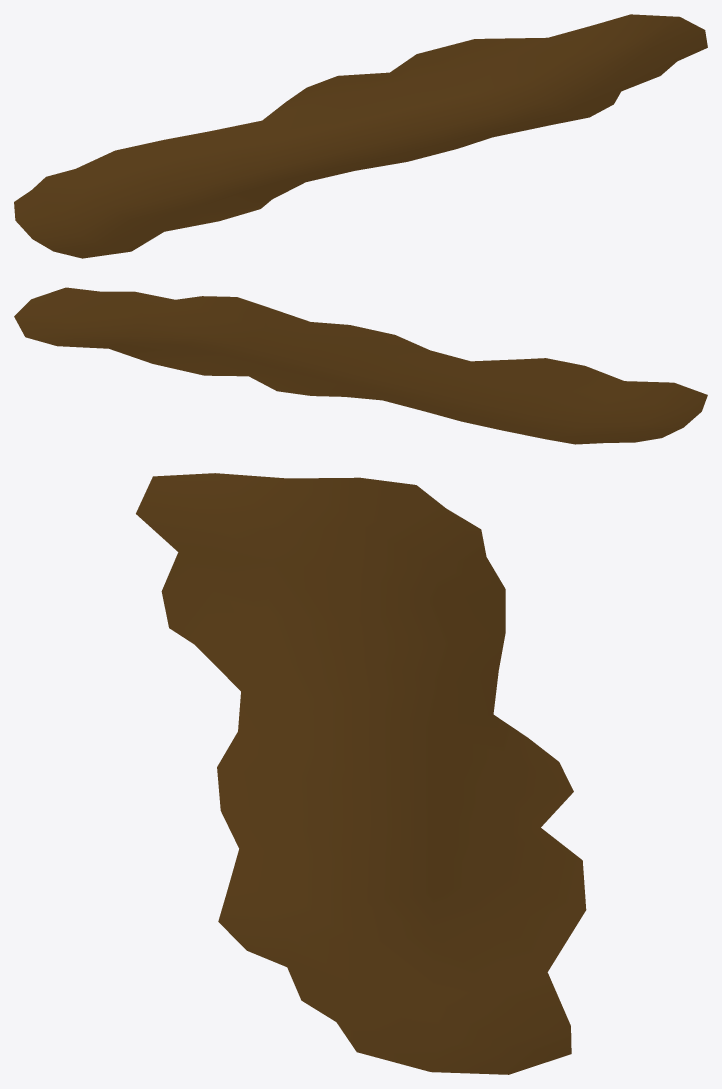
Rendered from StraightMud.FBX.
3 views of the same model, one above another, from view 1: azimuth 30°, elevation 25°; view 2: azimuth 150°, elevation 25°; view 3: azimuth 270°, elevation 25° (orthographic). The views are drawn at different scales.
Visible parts, largest first — view 1: StraightMud; view 2: StraightMud; view 3: StraightMud.
Part boxes in pixels (x1=…): StraightMud: x1=14, y1=14, x2=707, y2=258; StraightMud: x1=14, y1=287, x2=707, y2=444; StraightMud: x1=136, y1=473, x2=586, y2=1074.
Size of the model in its own units: 10401 by 232 by 3291.
